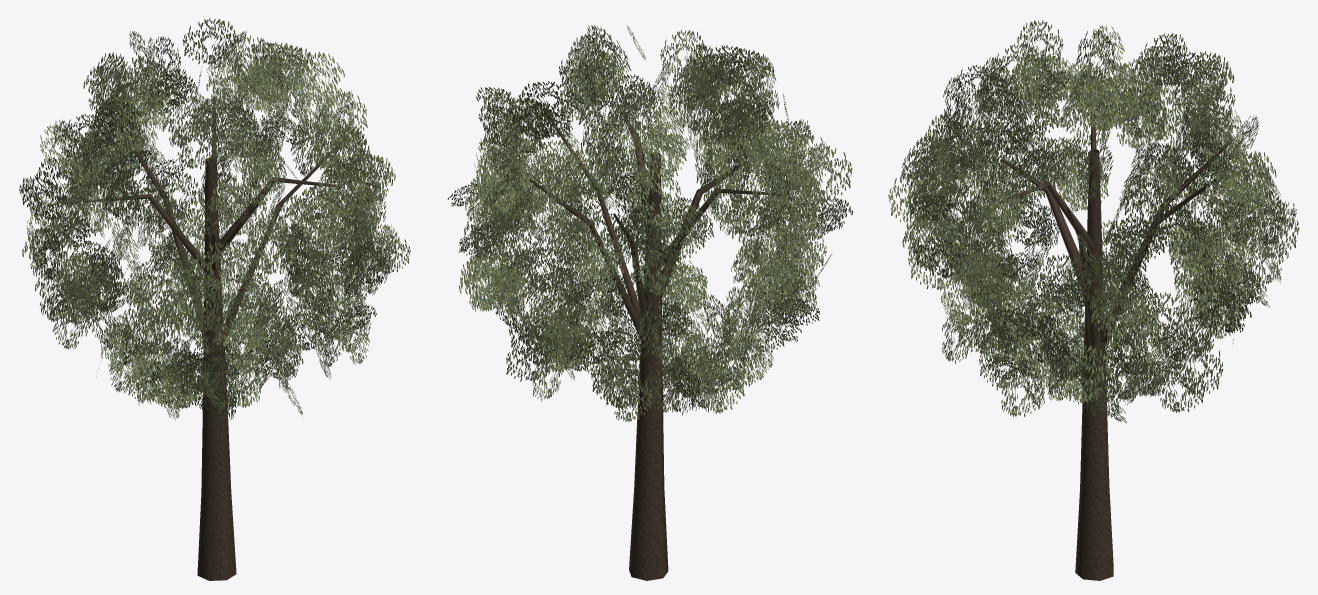
The model's file is tpl_farm_tall_meadow_willow.glb.
The picture shows the model from 3 angles, left to right: view 1: azimuth 30°, elevation 25°; view 2: azimuth 150°, elevation 25°; view 3: azimuth 270°, elevation 25°; orthographic projection.
Parts seen in each view (by area): view 1: tpl_farm_tall_meadow_willow; view 2: tpl_farm_tall_meadow_willow; view 3: tpl_farm_tall_meadow_willow.
Boxes of the visible parts, x1,y1,x2,y2 form: tpl_farm_tall_meadow_willow: [19, 18, 410, 580]; tpl_farm_tall_meadow_willow: [447, 25, 852, 580]; tpl_farm_tall_meadow_willow: [888, 20, 1299, 580].
Bounding box in the file's own units: 10.83 × 15.79 × 11.17.
2 materials, 2 textured.
